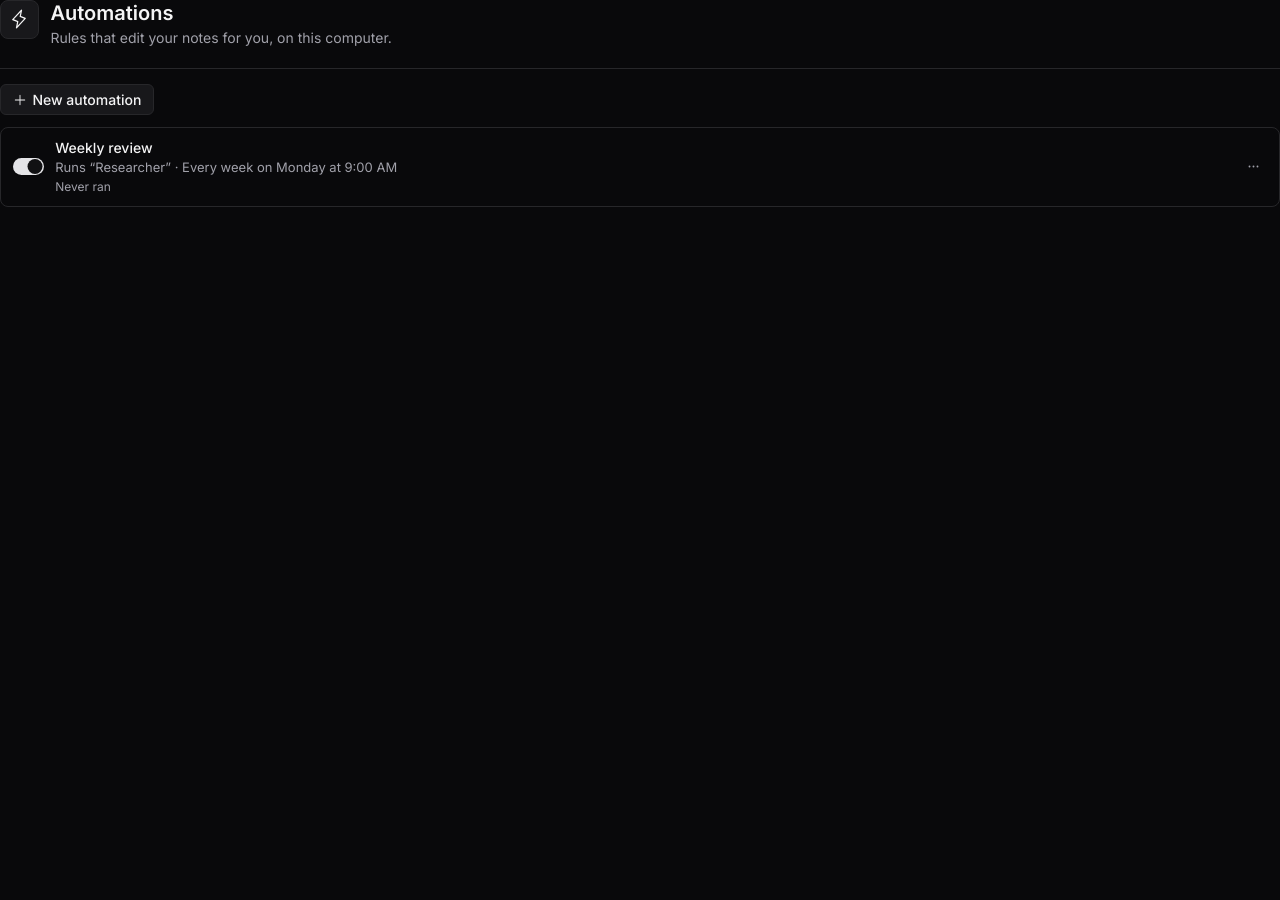
Test: AutomationsSection › test Edit of an agent schedule opens the schedule dialog
Check: the text with test id "rule-summary" shows "Runs “Researcher”", box [55,159,397,175]
Step 1. Click the button named "Automation menu" → (1254, 167), box [1240,153,1267,180]
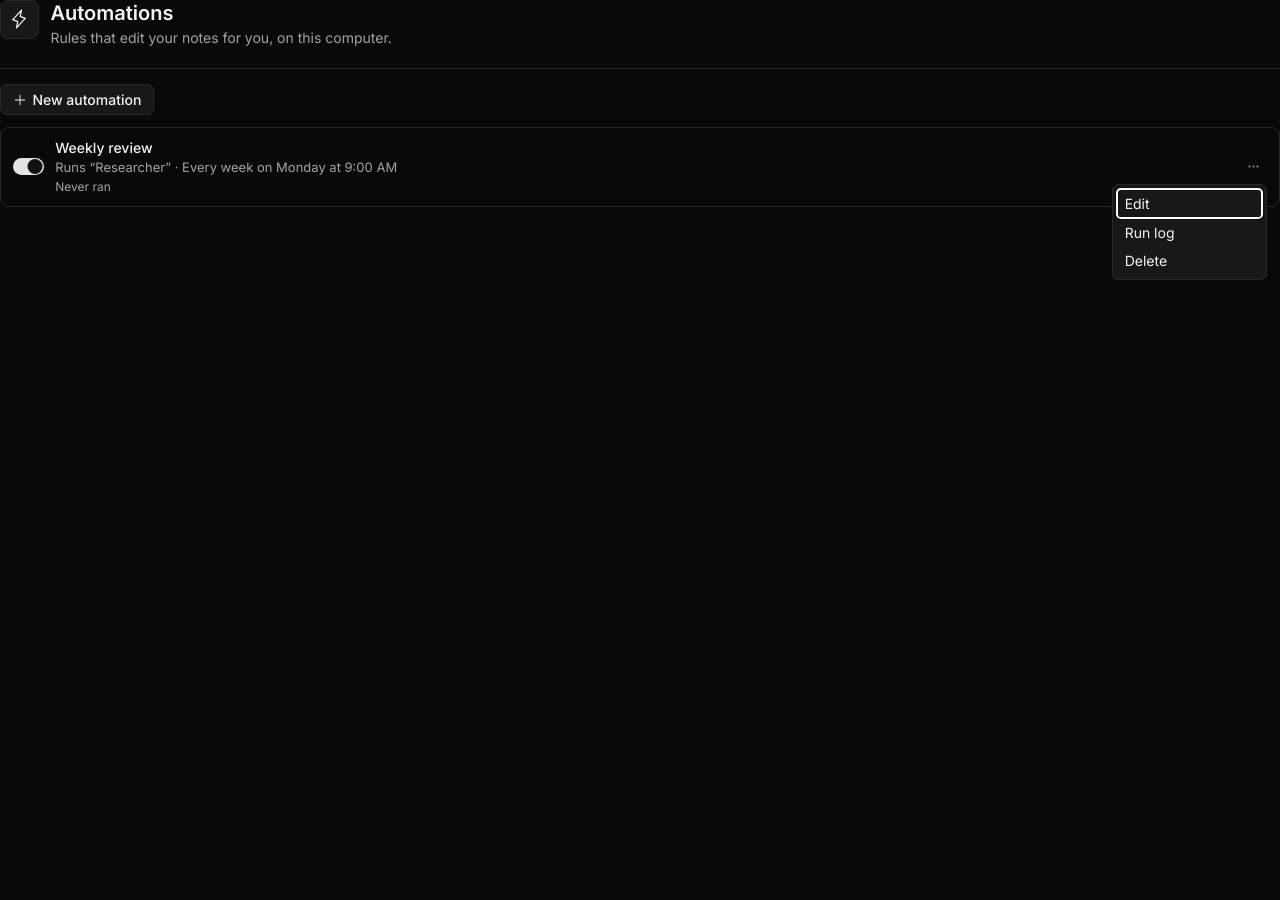
Step 2. Click the menu item "Edit" → (1190, 203), box [1117,189,1262,218]
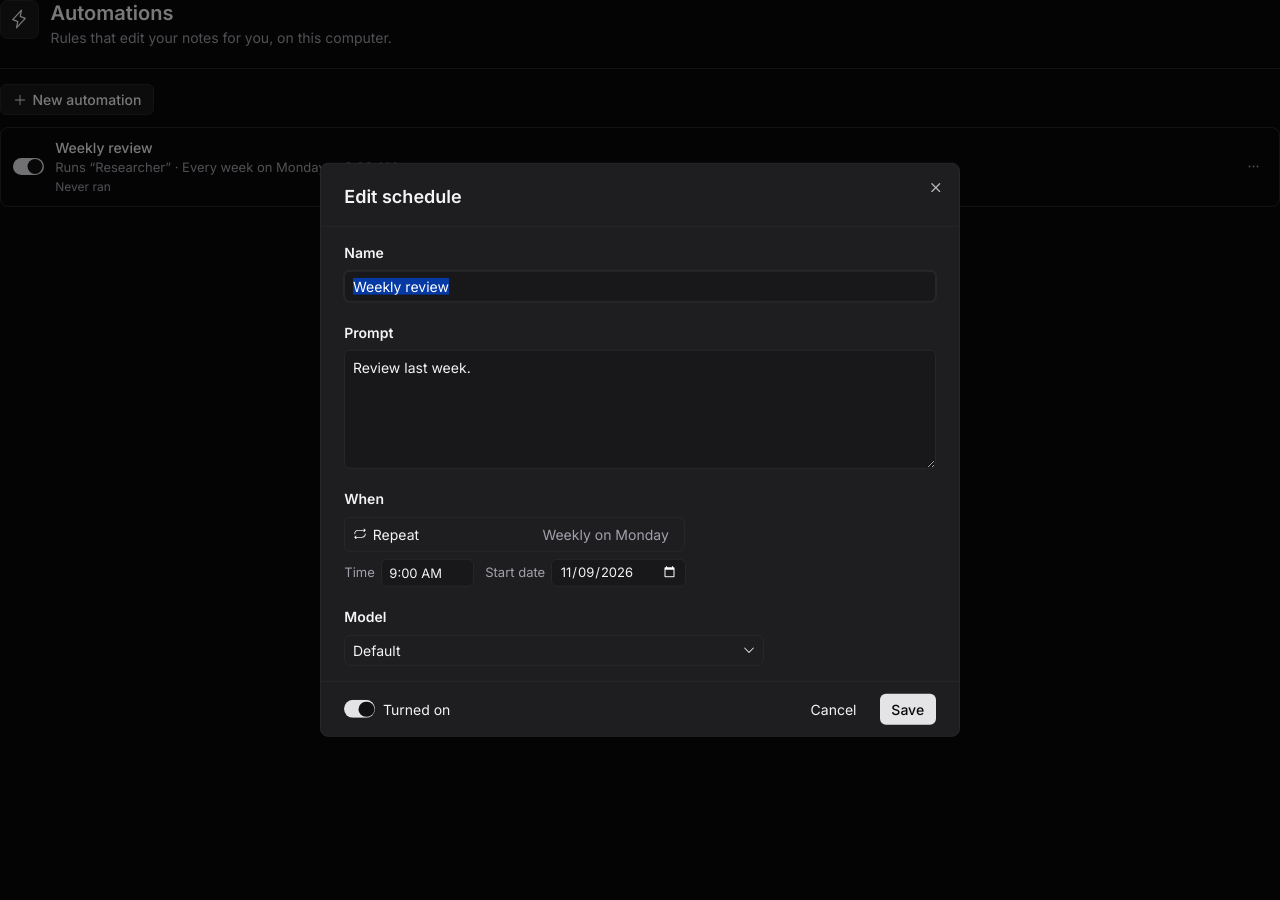
Check: the heading "Edit schedule" is shown, box [344,186,462,207]
Check: the text box labelled "Prompt" holds "Review last week.", box [344,350,936,469]
Check: the button "Save" is enabled, box [880,694,936,725]
